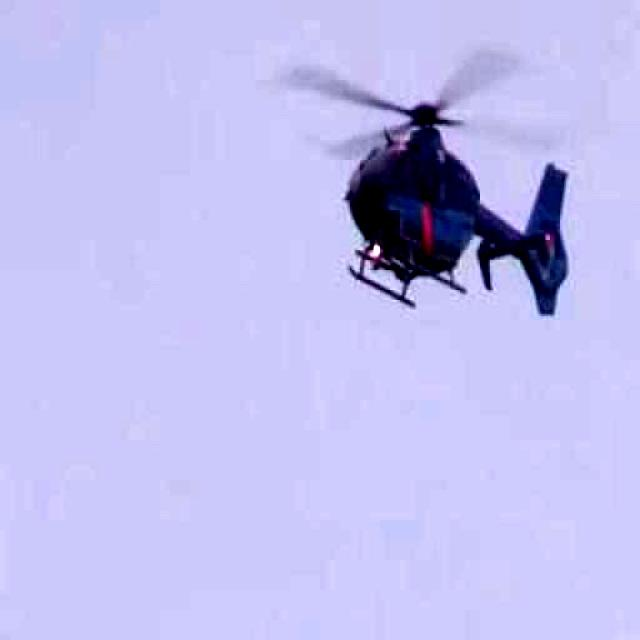drone: (258, 8, 618, 355)
